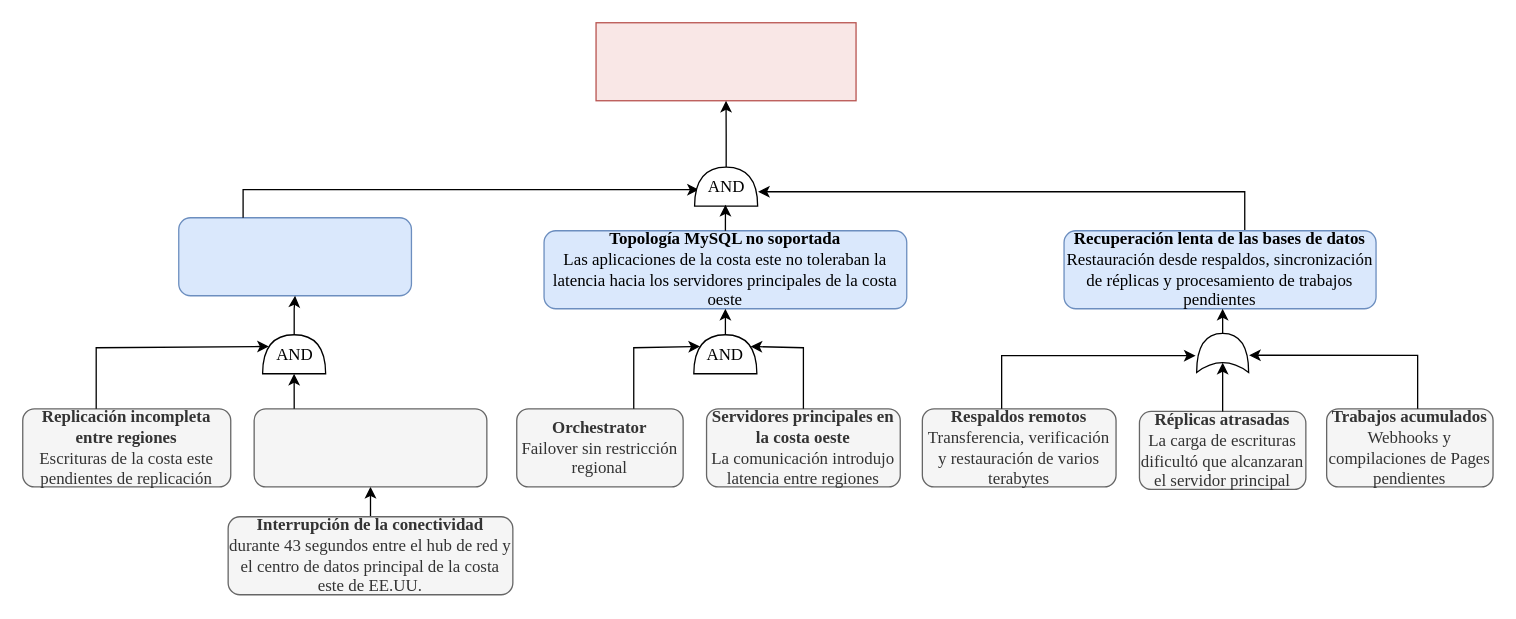
This 1516x619 diagram has some shape labels left out. Here are the shapes that lost their labels. From the top down, the box of each, then its label:
(595, 21, 856, 101): Degradación del servicio de GitHub 21-22 de octubre de 2018
(177, 216, 411, 296): Divergencia de escrituras entre regiones
(1195, 332, 1249, 372): OR
(253, 408, 487, 487): Conmutación automática de MySQL Orchestrator promovió réplicas de la costa oeste
